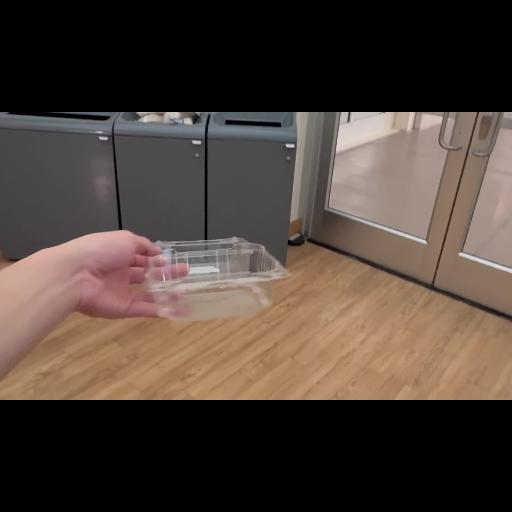small_plastic_container: (132, 229, 296, 331)
